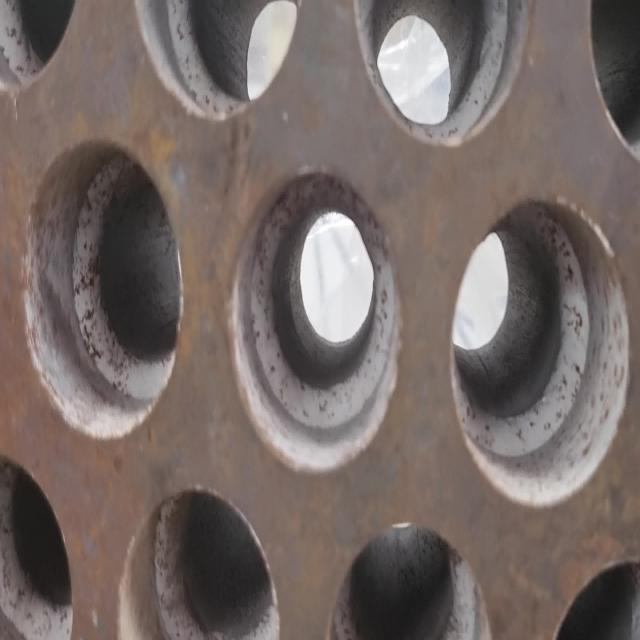Hole: (451, 195, 630, 509), (228, 167, 402, 475), (21, 138, 184, 440), (353, 0, 530, 148), (117, 488, 282, 639), (130, 2, 302, 122), (324, 522, 494, 640)
